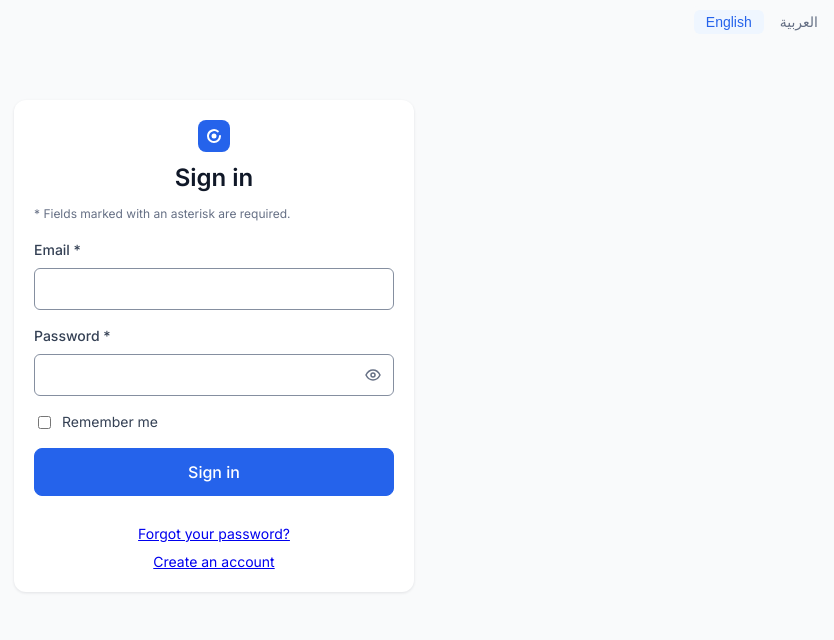
it: SignInPage › never renders any "attempts remaining" text (AC6)
The width and height of the screenshot is (834, 640).
Type "a@b.com" into the field labelled "Email *". click: (214, 289)
box: [47,269,381,309]
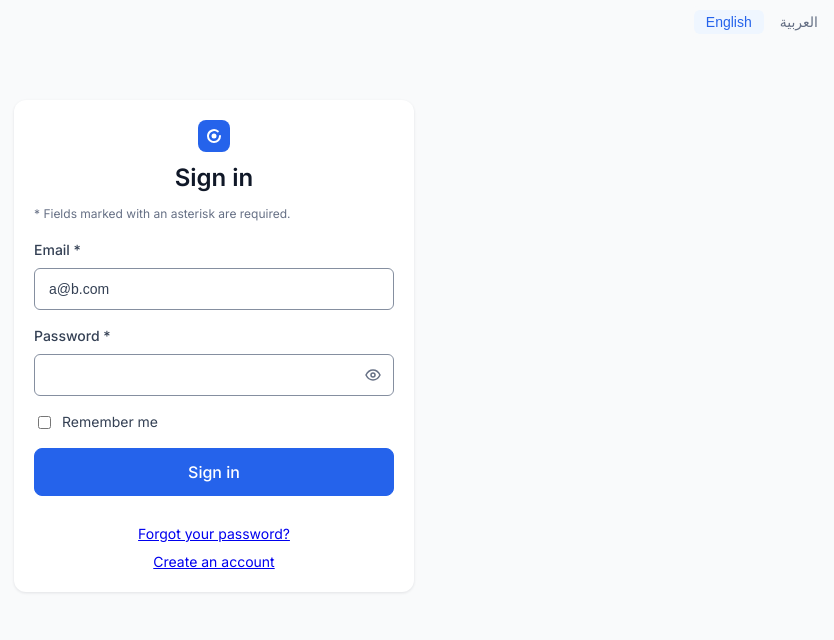
Type "Passw0rd!" into the password field labelled "Password *". click: (202, 375)
box: [47,355,357,395]
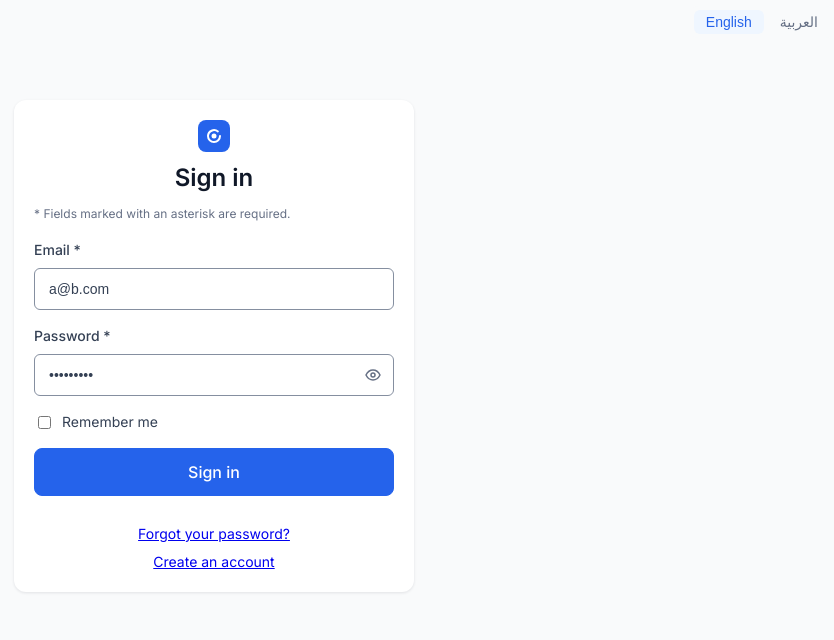
Click the button "Sign in". click: (214, 472)
box: [34,448,394,496]
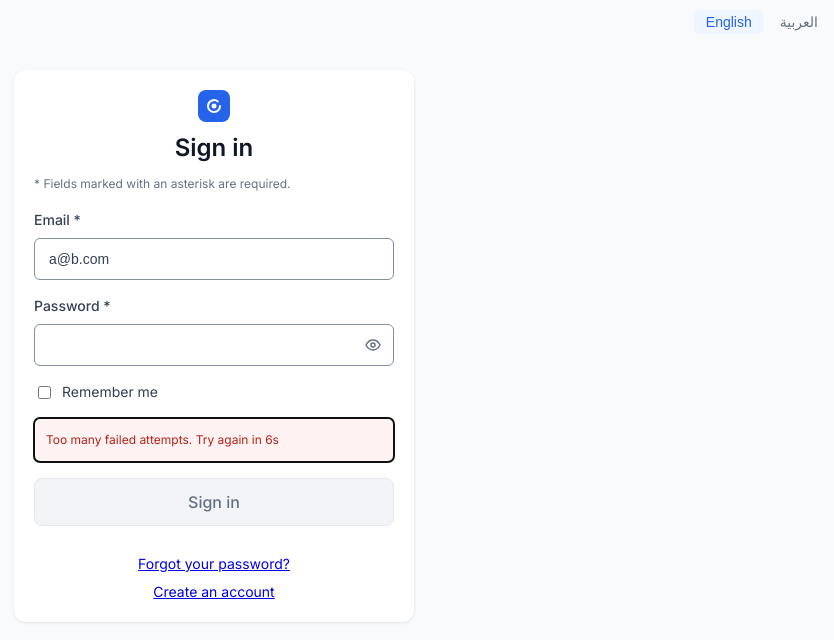
Now the text "Too many failed attempts. Try again in 6s" is shown, box [34,418,394,462]
